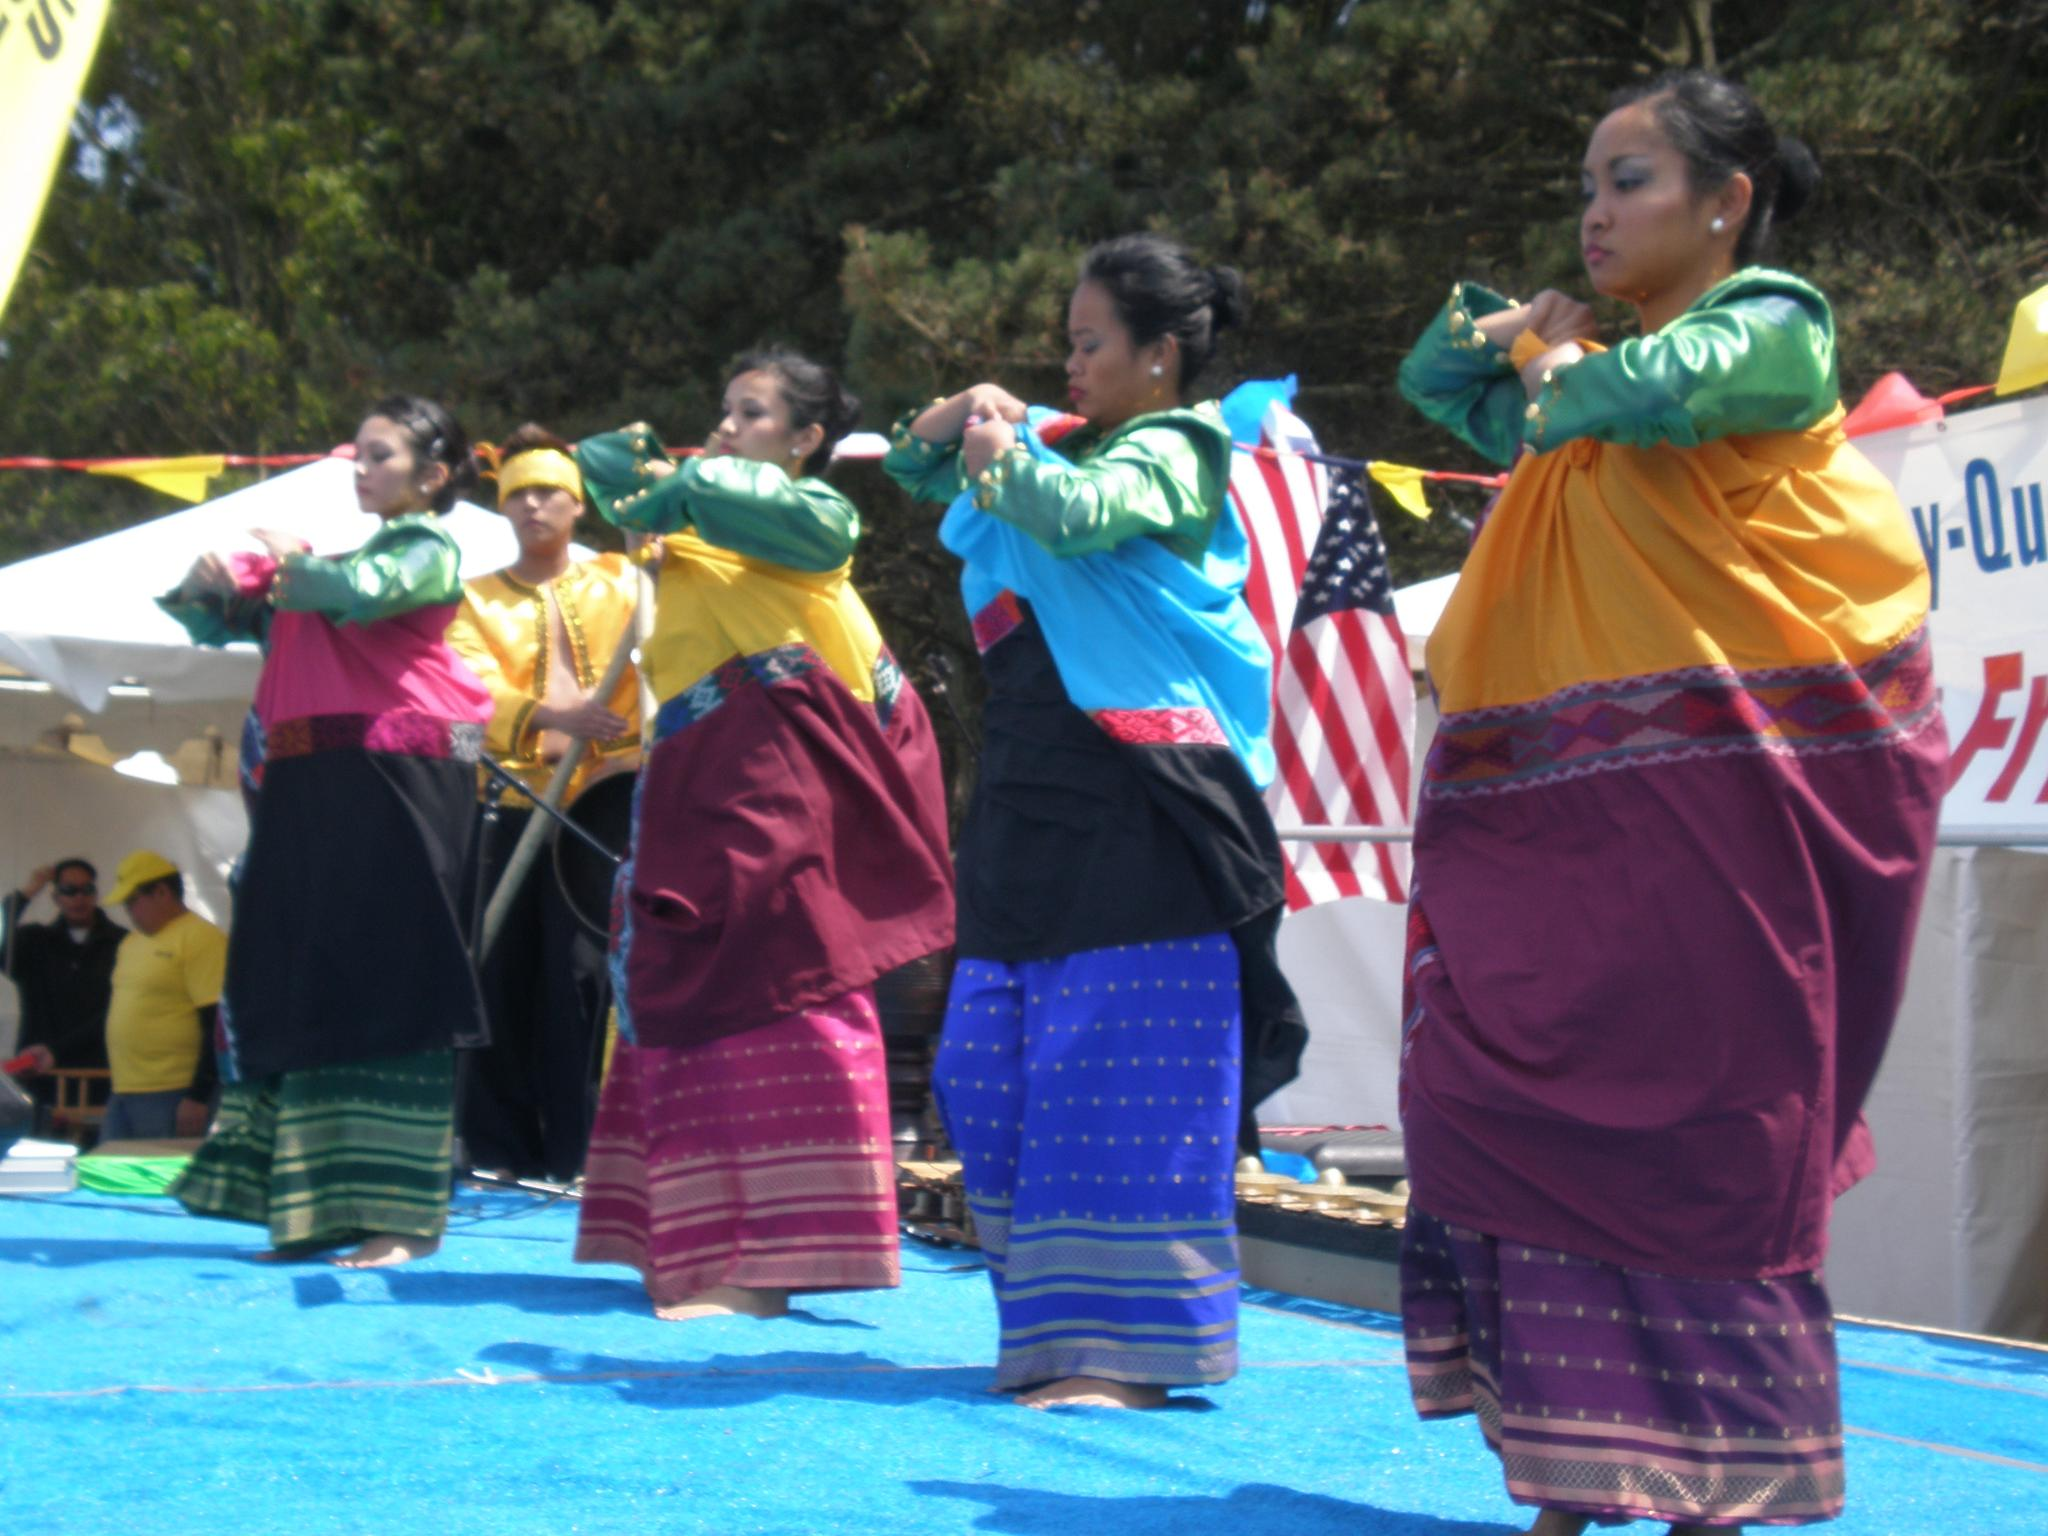malong: (1343, 307, 2046, 1536), (918, 403, 1313, 1404), (592, 471, 935, 1371), (158, 511, 498, 1317)
